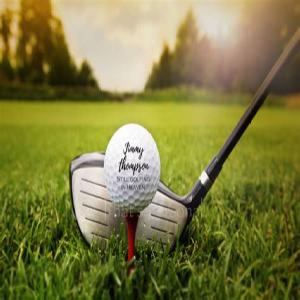Golf: (103, 121, 160, 213)
